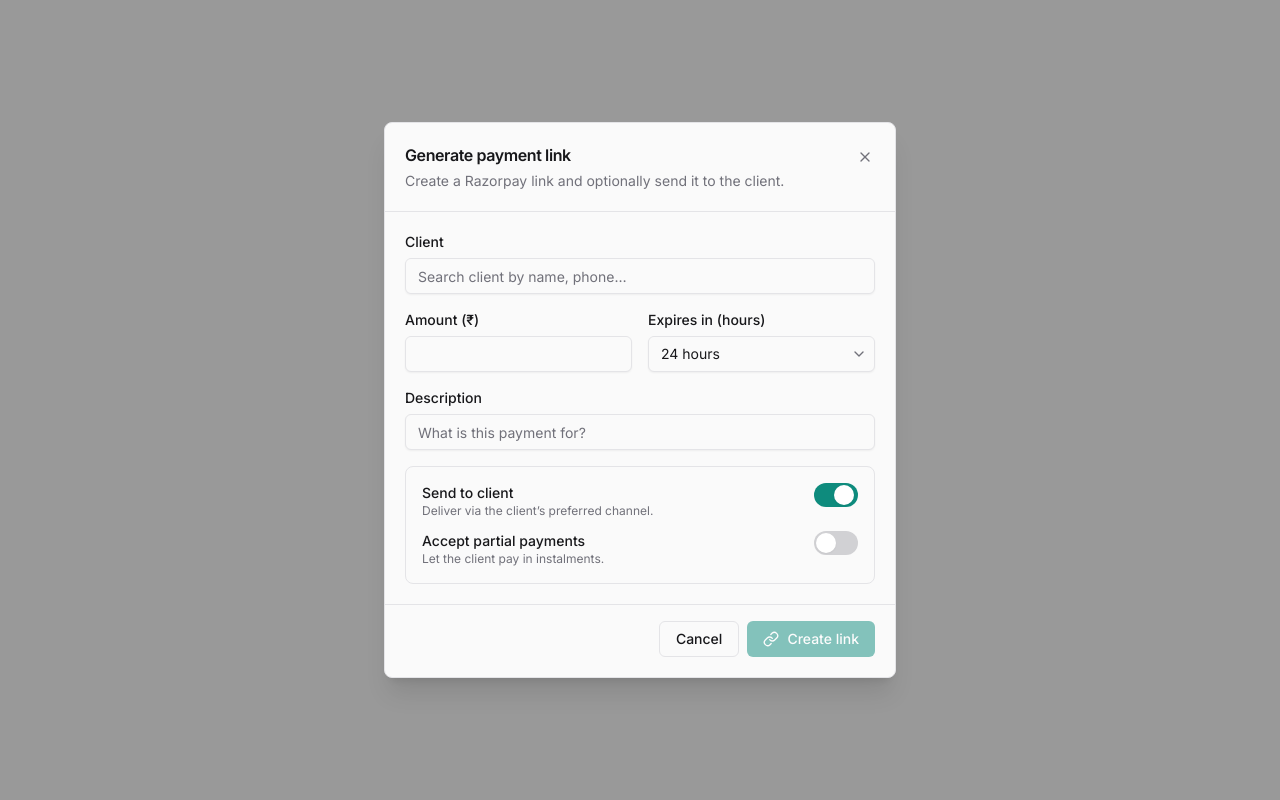
it: CreatePaymentLinkModal › falls back to the email when a client has no phone
Type "b" into the field with placeholder "Search client by name, phone…" at (640, 276), box [405,258,875,294]
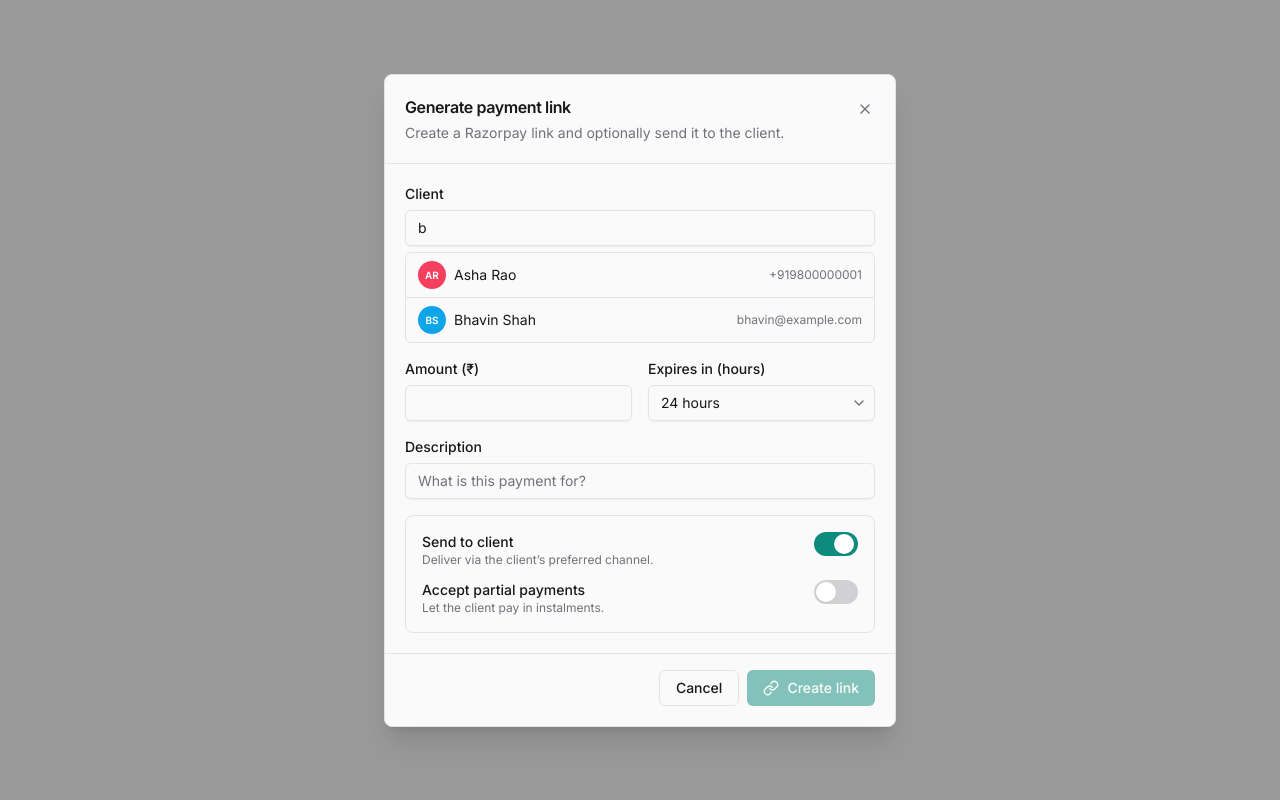
Check: the text "bhavin@example.com" is shown, box [737,312,862,328]
